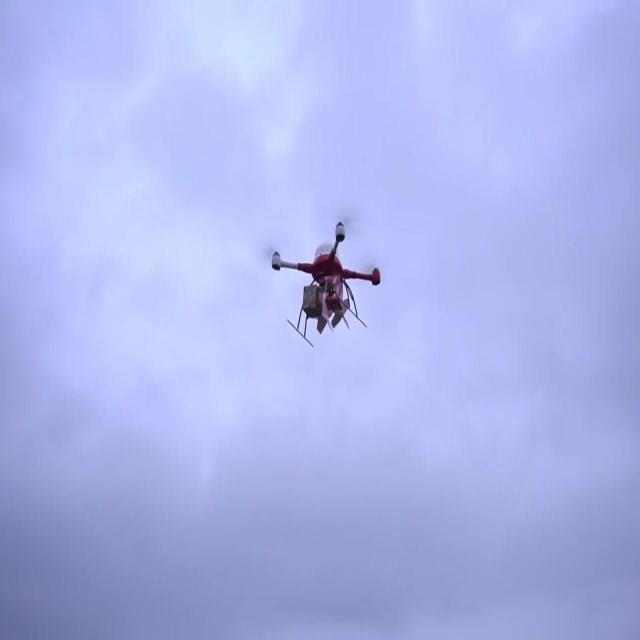UAV: (266, 215, 381, 348)
